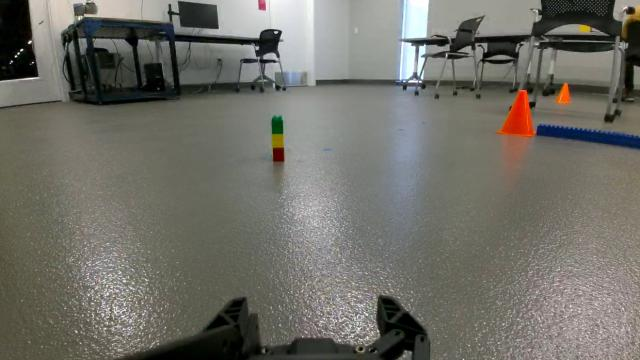lego: (252, 109, 306, 175)
